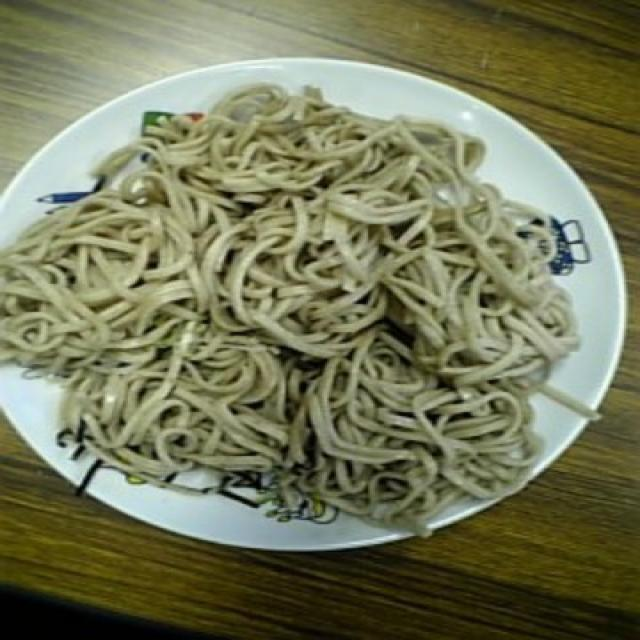面条主食: (0, 52, 629, 552)
